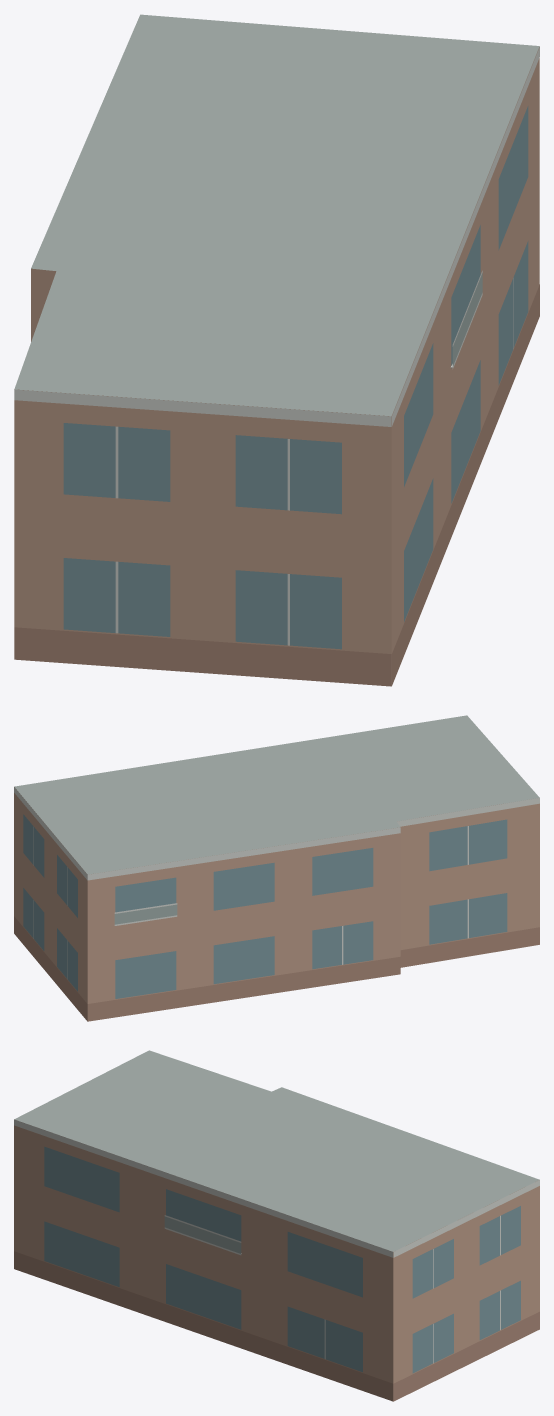
File: survey-upis-32684496.glb
3 views of the same model, one above another, from view 1: azimuth 30°, elevation 25°; view 2: azimuth 150°, elevation 25°; view 3: azimuth 270°, elevation 25° (orthographic). The views are drawn at different scales.
Parts seen in each view (by area): view 1: survey-upis-32684496.tmp; view 2: survey-upis-32684496.tmp; view 3: survey-upis-32684496.tmp.
Part boxes in pixels (bbox=[...]): survey-upis-32684496.tmp: bbox=[14, 14, 539, 686]; survey-upis-32684496.tmp: bbox=[14, 715, 539, 1021]; survey-upis-32684496.tmp: bbox=[14, 1050, 539, 1401].
Size of the model in its own units: 17.64 by 6.1 by 19.43.
